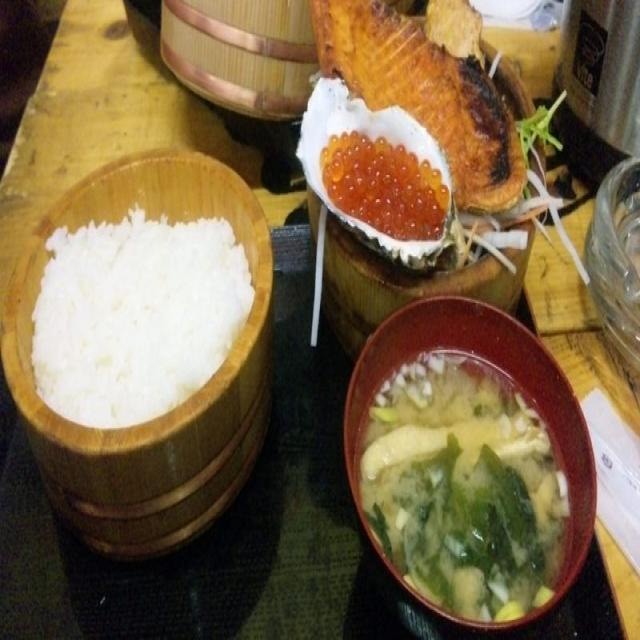汤锅炖物: (330, 296, 586, 628)
